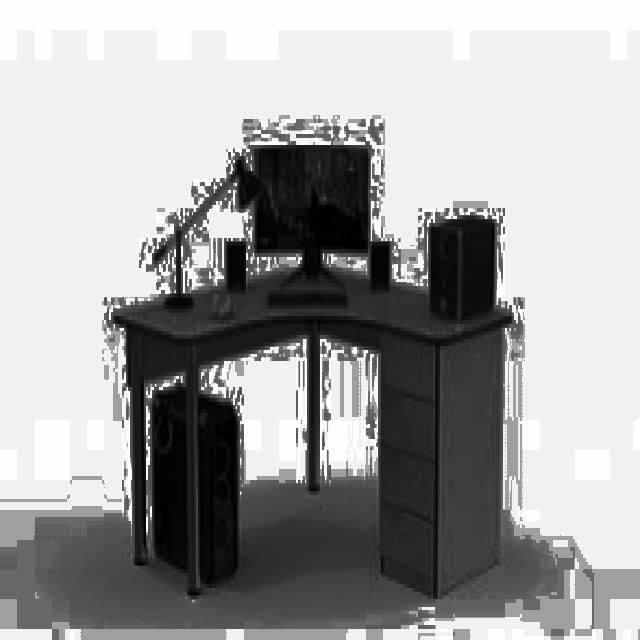table: (111, 261, 512, 599)
